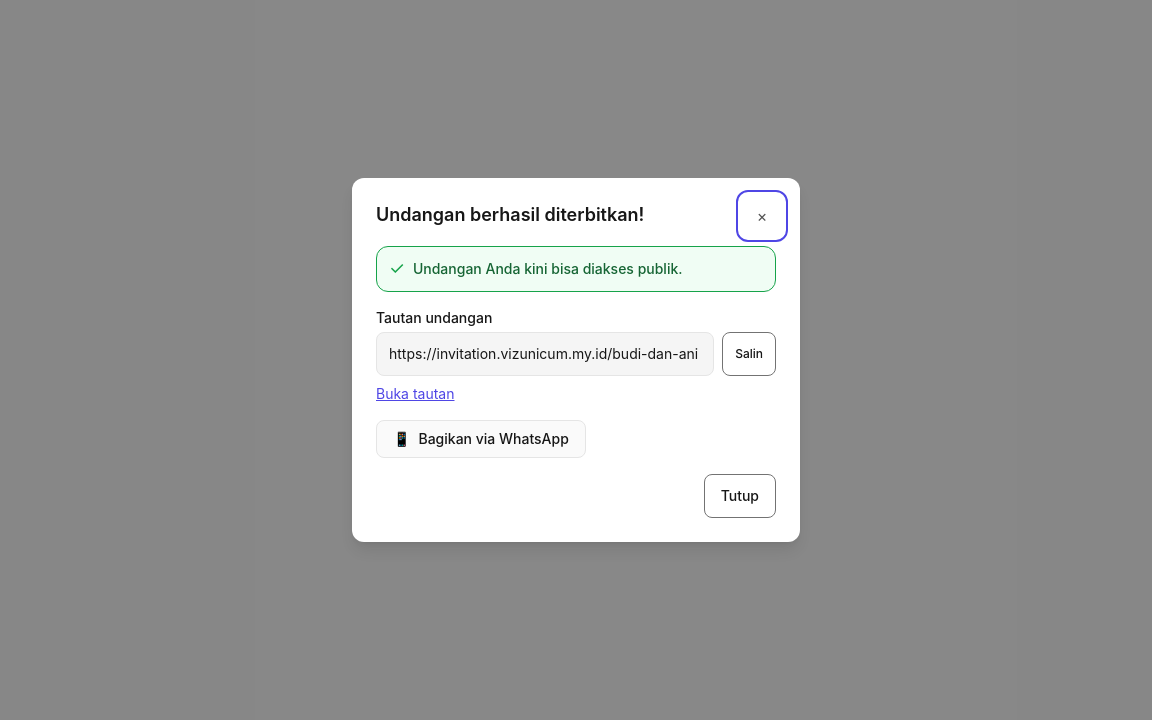
PublishSuccessModal › shows 'Tersalin!' after copying
Click the button "Salin" at (749, 354), box 722,332 -> 776,376
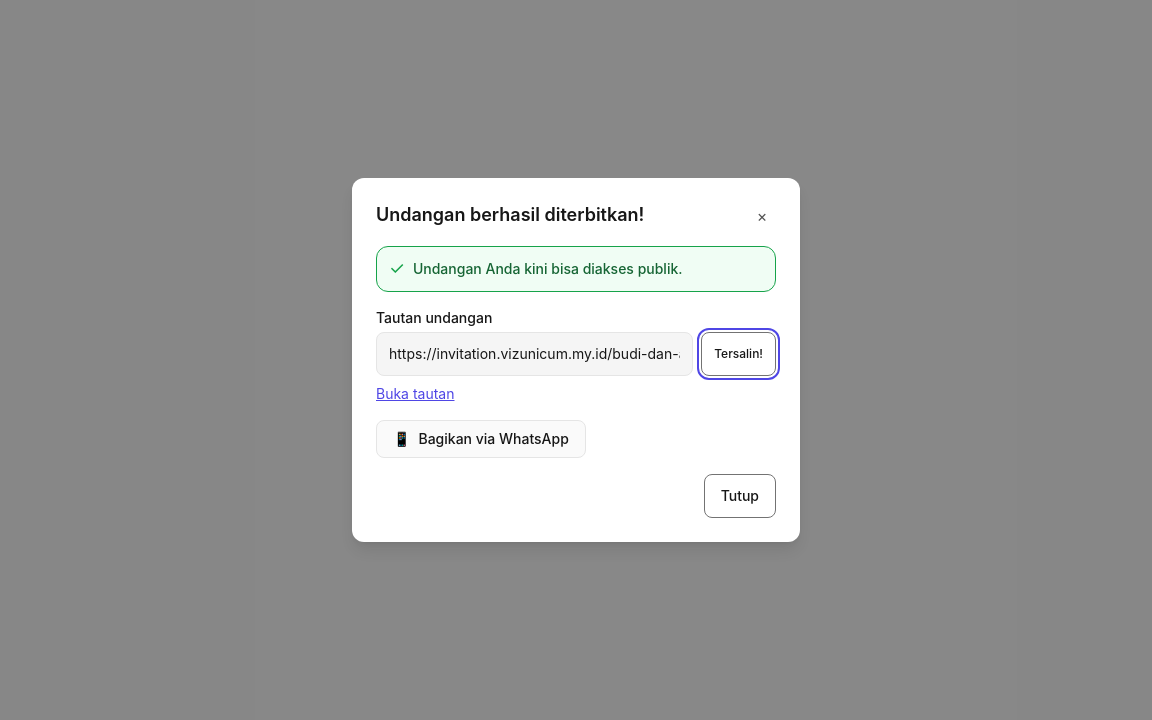
expect the button "Tersalin!" is shown: met, box 701,332 -> 776,376
